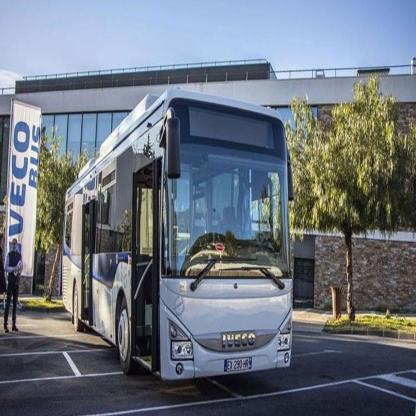Bus: (63, 82, 297, 388)
